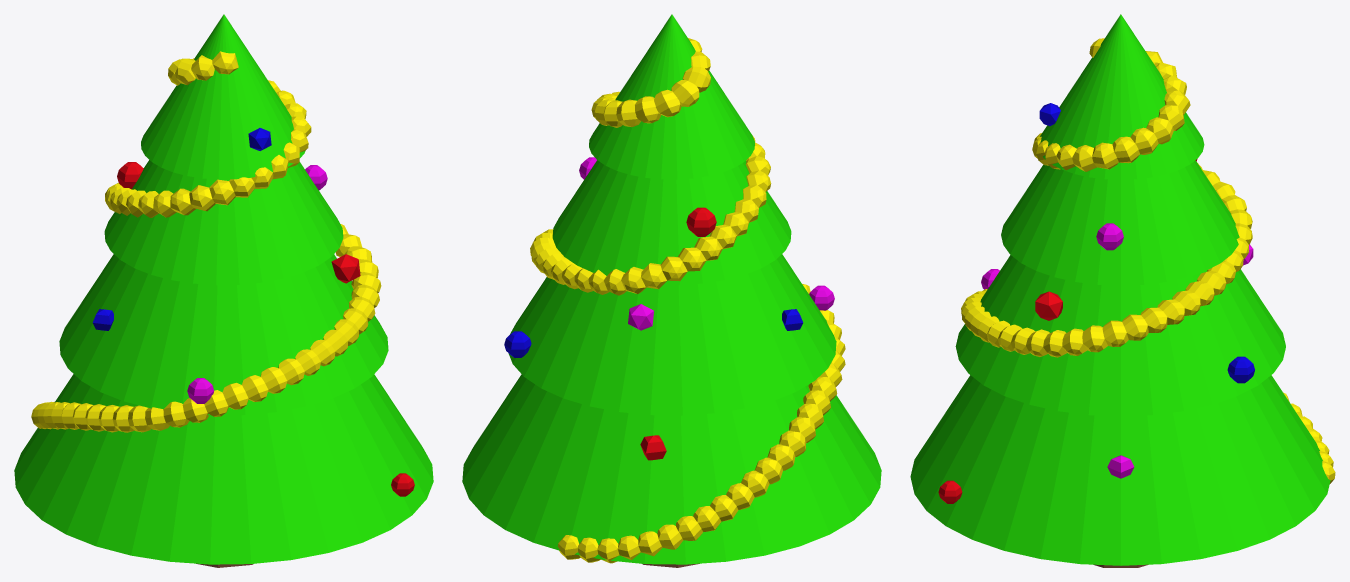
File: tree.fbx
3 views of the same model, side by side, from view 1: azimuth 30°, elevation 25°; view 2: azimuth 150°, elevation 25°; view 3: azimuth 270°, elevation 25° (orthographic).
Visible parts, largest first — view 1: Tree0, Tree1, Tree2, Spiral, Tree3, Ball1, Ball9; view 2: Tree0, Tree1, Spiral, Tree2, Tree3, Ball5, Ball4, Ball0; view 3: Tree0, Tree1, Tree2, Spiral, Tree3, Ball1, Ball10, Ball4.
Part boxes in pixels (x1,y1,x2,y2): Tree0: [14, 374, 433, 564]; Tree1: [59, 254, 388, 415]; Tree2: [104, 160, 343, 285]; Spiral: [31, 51, 381, 432]; Tree3: [141, 14, 305, 179]; Ball1: [331, 254, 360, 283]; Ball9: [187, 378, 213, 403]; Tree0: [462, 374, 881, 564]; Tree1: [508, 254, 836, 415]; Spiral: [530, 38, 845, 563]; Tree2: [552, 160, 791, 285]; Tree3: [589, 14, 754, 179]; Ball5: [686, 207, 716, 236]; Ball4: [504, 331, 531, 357]; Ball0: [628, 304, 653, 330]; Tree0: [910, 375, 1330, 565]; Tree1: [955, 255, 1285, 416]; Tree2: [1001, 160, 1239, 285]; Spiral: [961, 38, 1335, 483]; Tree3: [1040, 14, 1204, 179]; Ball1: [1035, 291, 1062, 320]; Ball10: [1096, 223, 1123, 250]; Ball4: [1227, 356, 1254, 383].
Bounding box in the file's own units: 360 × 501 × 364.
